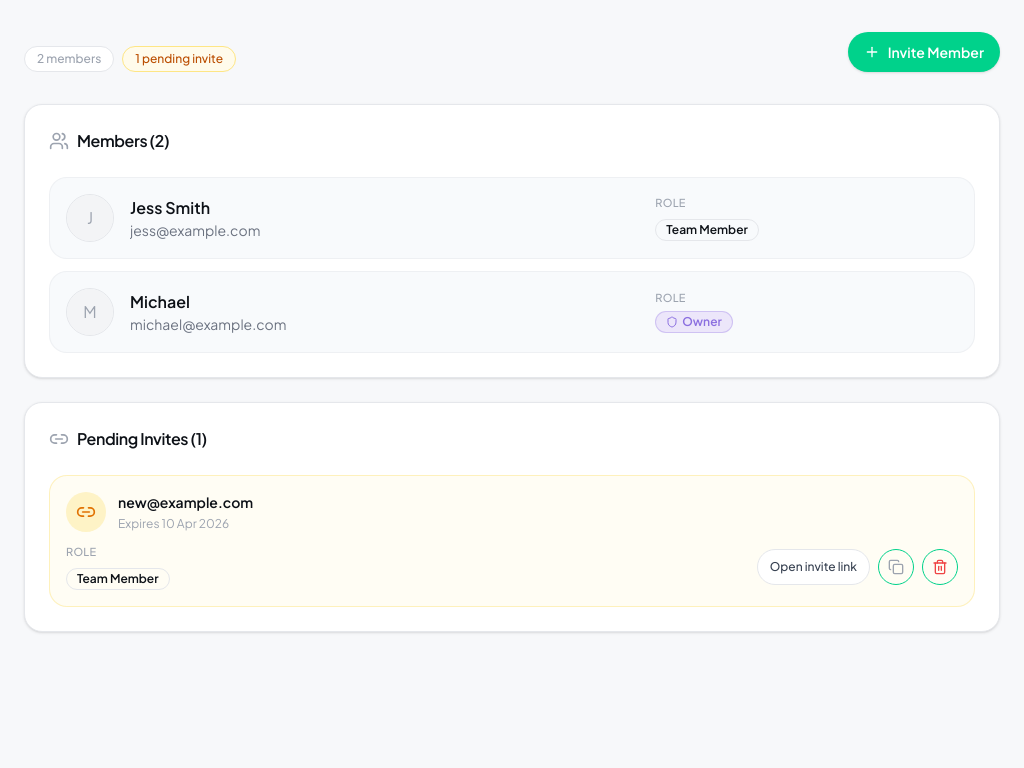
TeamPage › shows link-only success copy when generating an invite link without email
The width and height of the screenshot is (1024, 768).
Click the button "Invite Member": (924, 52) [848,32,1000,72]
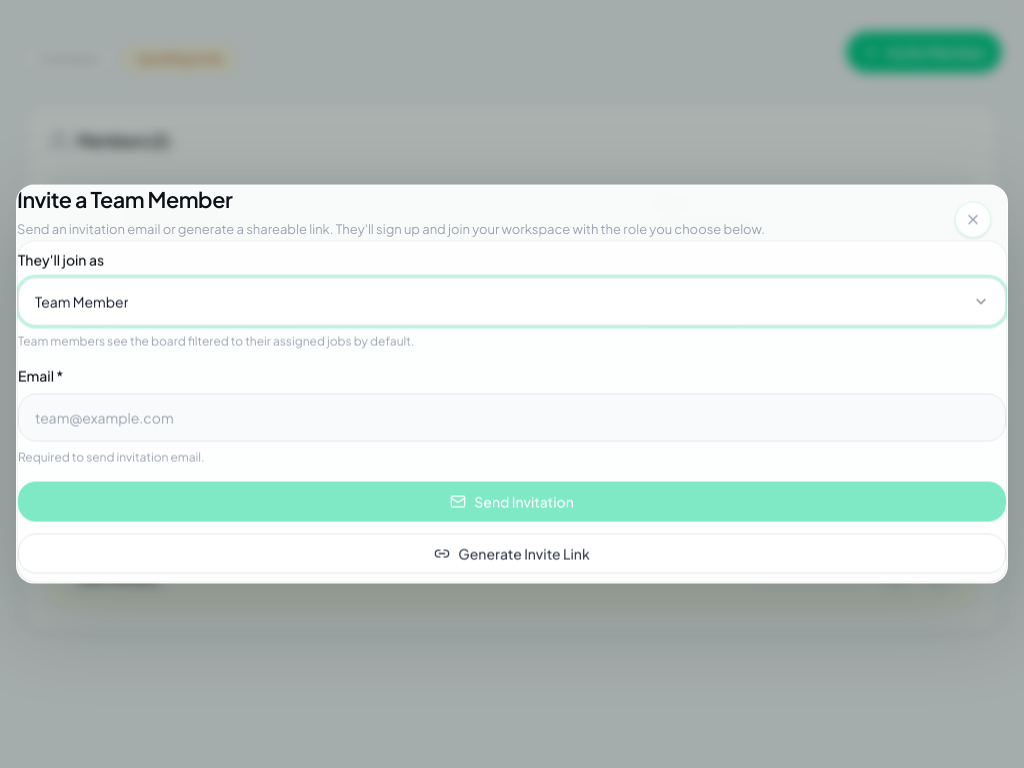
Click the button "Generate Invite Link": (512, 554) [18,534,1006,574]
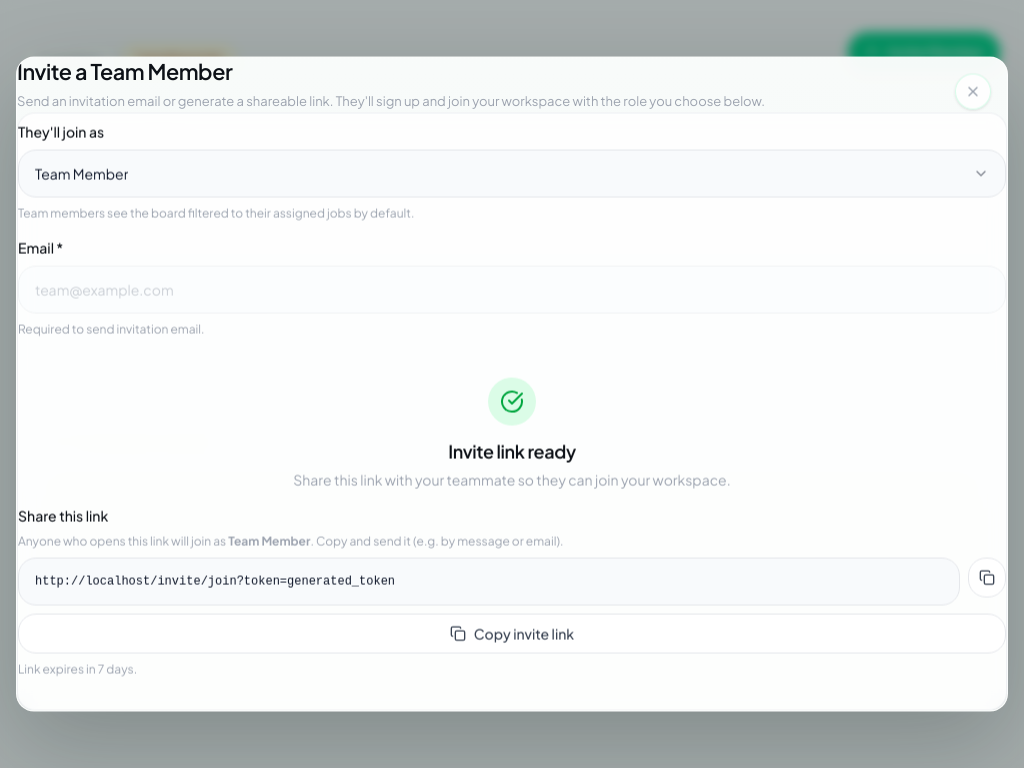
Now the heading "Invite link ready" is shown, box [448,440,576,462]
